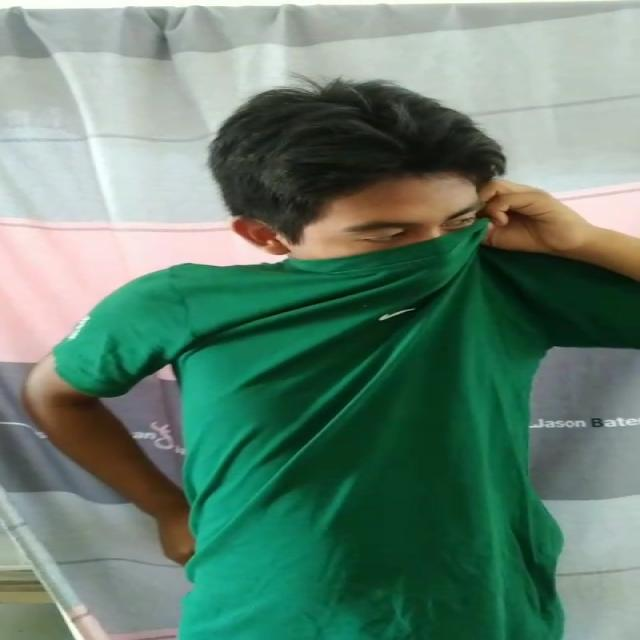8_ropa_rostro: (287, 222, 521, 310)
